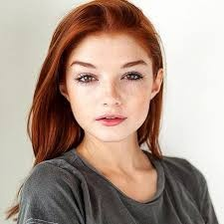no_mask: (67, 45, 153, 137)
